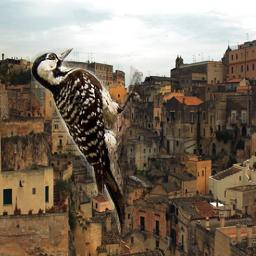Woodpecker: (31, 48, 143, 236)
